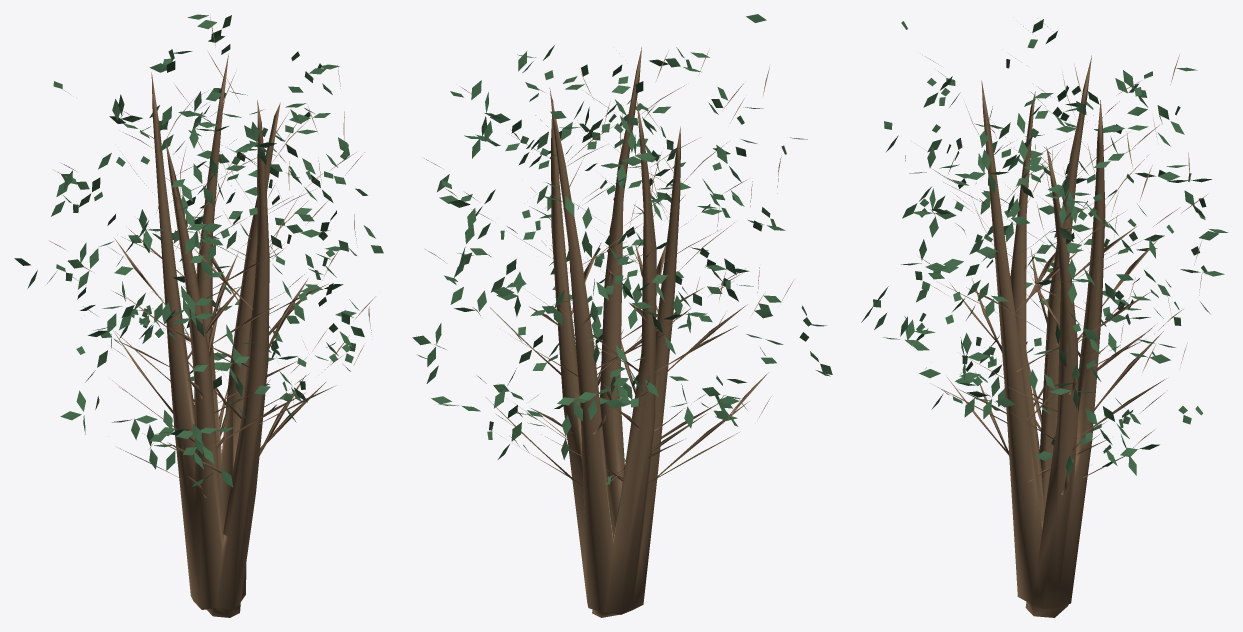
File: Myrte_1_Niveau2.fbx
3 views of the same model, side by side, from view 1: azimuth 30°, elevation 25°; view 2: azimuth 150°, elevation 25°; view 3: azimuth 270°, elevation 25° (orthographic).
Visible parts, largest first — view 1: Myrte_1_Niveau2; view 2: Myrte_1_Niveau2; view 3: Myrte_1_Niveau2.
Part boxes in pixels (left/top/right/bottom): Myrte_1_Niveau2: left=14, top=14, right=383, bottom=617; Myrte_1_Niveau2: left=412, top=14, right=832, bottom=617; Myrte_1_Niveau2: left=861, top=19, right=1228, bottom=617.
Bounding box in the file's own units: 130 × 192 × 116.
